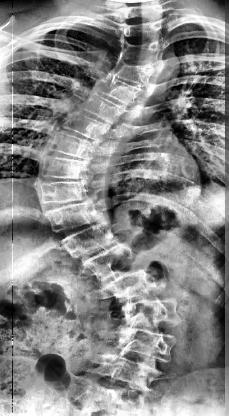Vertebrae: (93, 353, 159, 391), (115, 326, 175, 362), (115, 295, 177, 329), (57, 224, 117, 258), (96, 270, 158, 302), (82, 245, 140, 278), (57, 110, 114, 141), (76, 93, 130, 125), (48, 130, 102, 162), (44, 204, 100, 234), (92, 74, 144, 104), (37, 181, 91, 207), (110, 58, 156, 88), (37, 156, 89, 182), (119, 38, 161, 62), (121, 20, 166, 40), (119, 5, 165, 22)
